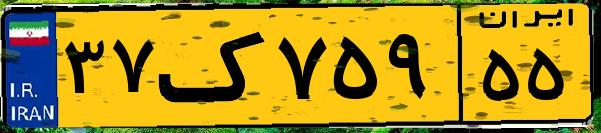3: (57, 26, 110, 100)
5: (330, 28, 385, 110), (475, 38, 525, 113), (525, 38, 570, 115)
7: (270, 28, 330, 110), (110, 28, 158, 98)
9: (385, 28, 445, 110)
ک: (158, 12, 270, 120)
